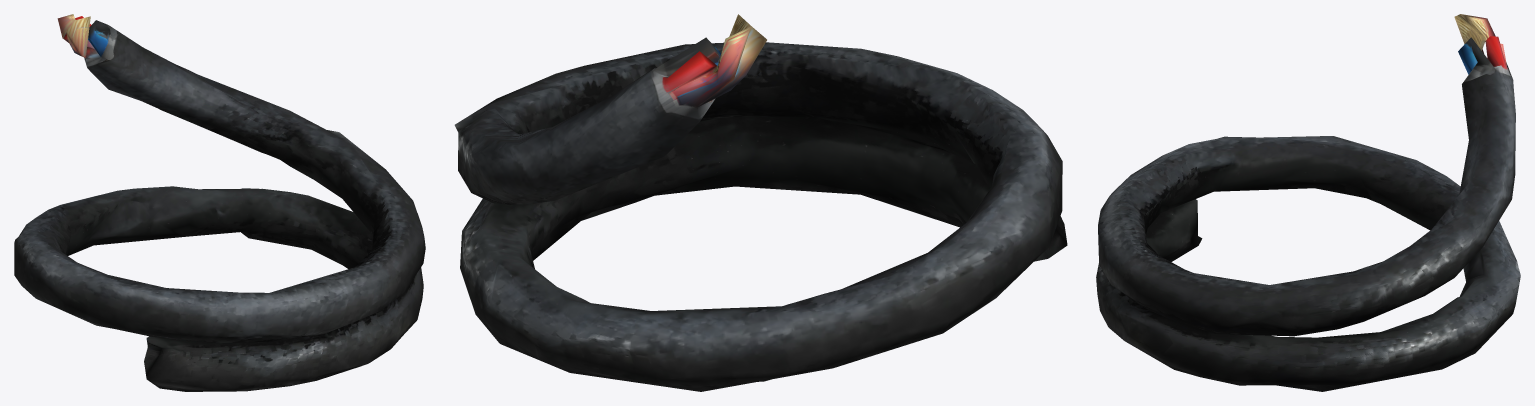
File: item_cable.glb
3 views of the same model, side by side, from view 1: azimuth 30°, elevation 25°; view 2: azimuth 150°, elevation 25°; view 3: azimuth 270°, elevation 25° (orthographic). The views are drawn at different scales.
Visible parts, largest first — view 1: tripo_node_ea26d75a-4ea9-495b-80b3-14fe57e8e37e; view 2: tripo_node_ea26d75a-4ea9-495b-80b3-14fe57e8e37e; view 3: tripo_node_ea26d75a-4ea9-495b-80b3-14fe57e8e37e.
Boxes of the visible parts, left/top/right/bottom form: tripo_node_ea26d75a-4ea9-495b-80b3-14fe57e8e37e: left=14, top=14, right=425, bottom=391; tripo_node_ea26d75a-4ea9-495b-80b3-14fe57e8e37e: left=454, top=14, right=1067, bottom=391; tripo_node_ea26d75a-4ea9-495b-80b3-14fe57e8e37e: left=1096, top=14, right=1520, bottom=391.
Bounding box in the file's own units: 0.9962 × 0.6898 × 1.
1 material, 1 textured.
